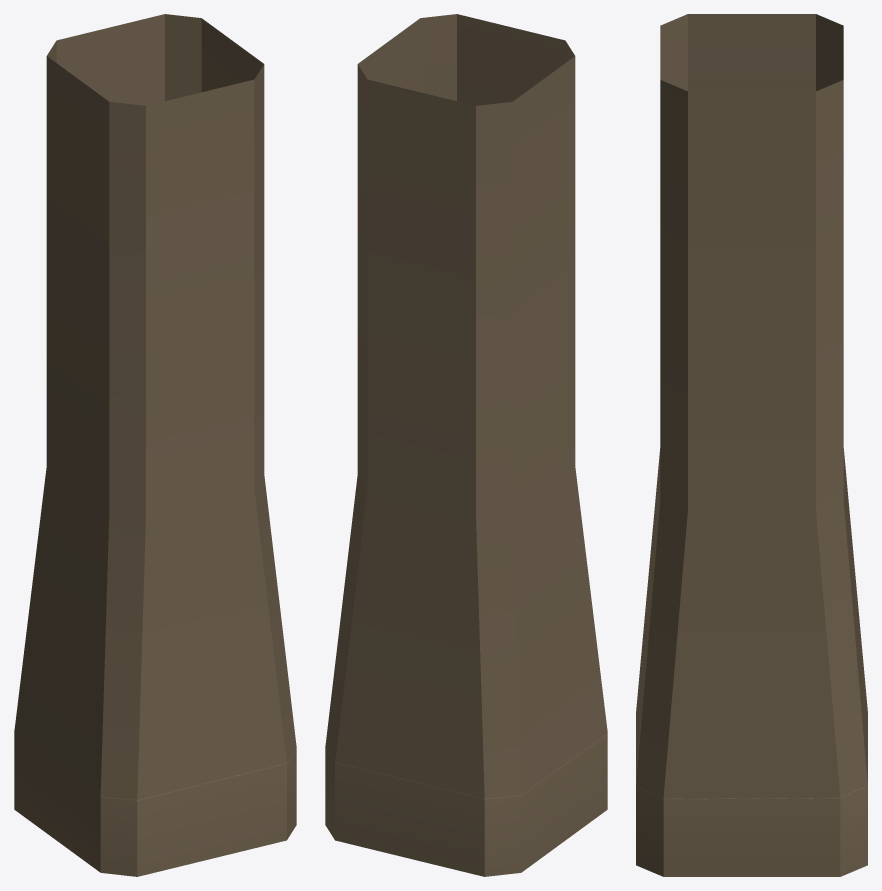
Rendered from Piller.fbx.
3 views of the same model, side by side, from view 1: azimuth 30°, elevation 25°; view 2: azimuth 150°, elevation 25°; view 3: azimuth 270°, elevation 25° (orthographic). The views are drawn at different scales.
Visible parts, largest first — view 1: Piller; view 2: Piller; view 3: Piller.
Part boxes in pixels (left/top/right/bottom): Piller: left=14, top=14, right=296, bottom=876; Piller: left=325, top=14, right=607, bottom=876; Piller: left=636, top=14, right=867, bottom=876.
Bounding box in the file's own units: 1.1 × 4.06 × 1.1.
